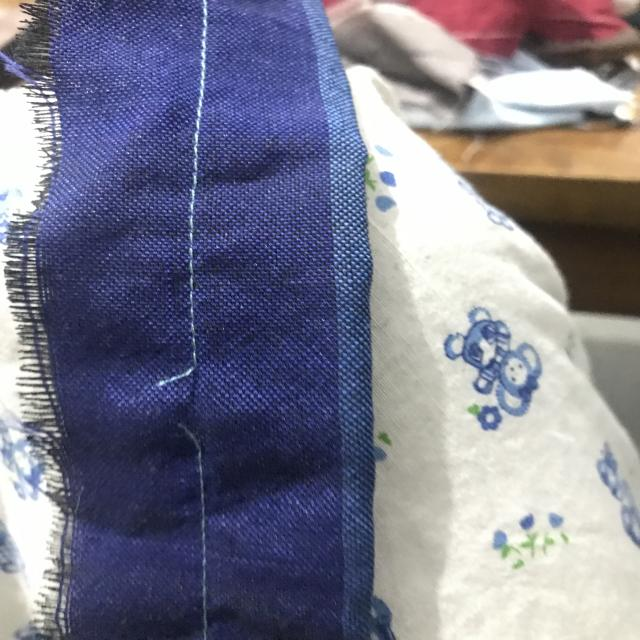broken: (151, 344, 234, 464)
good: (172, 183, 222, 296)
